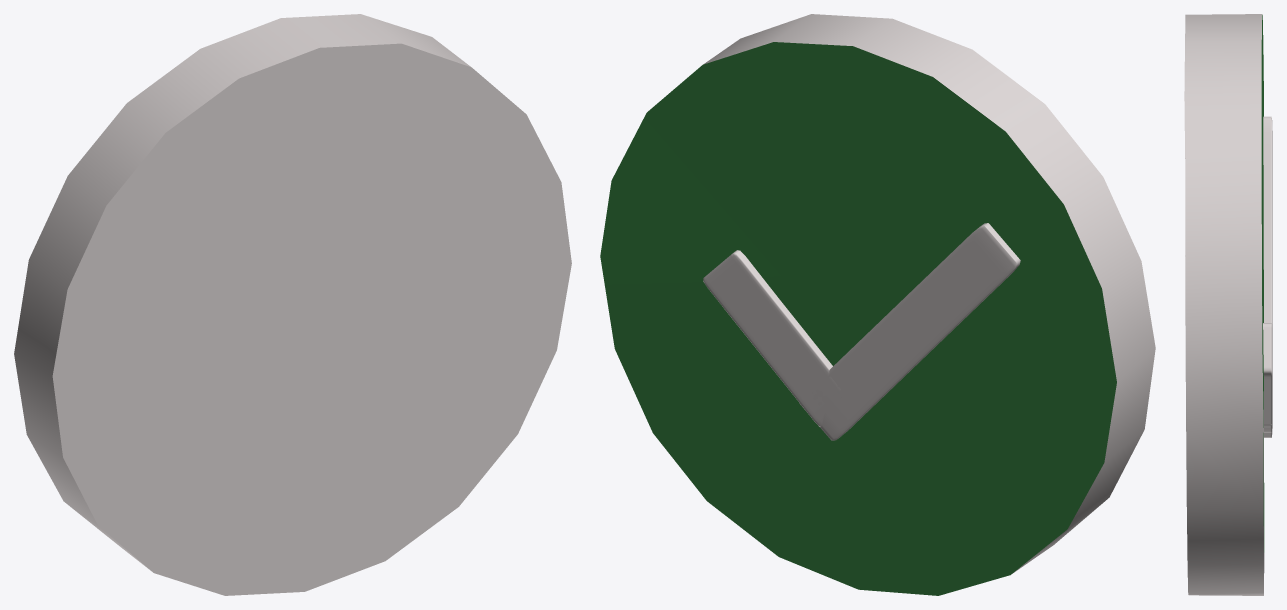
Rendered from allowmesh.FBX.
3 views of the same model, side by side, from view 1: azimuth 30°, elevation 25°; view 2: azimuth 150°, elevation 25°; view 3: azimuth 270°, elevation 25° (orthographic). The views are drawn at different scales.
Visible parts, largest first — view 1: pCylinder4; view 2: pCylinder4, pCube6; view 3: pCylinder4, pCube6.
Part boxes in pixels (<box>): pCylinder4: <box>14,14,571,595</box>; pCylinder4: <box>600,14,1155,595</box>; pCube6: <box>703,223,1020,440</box>; pCylinder4: <box>1184,14,1264,595</box>; pCube6: <box>1263,116,1272,437</box>.
Bounding box in the file's own units: 17.39 × 17.41 × 2.61.
